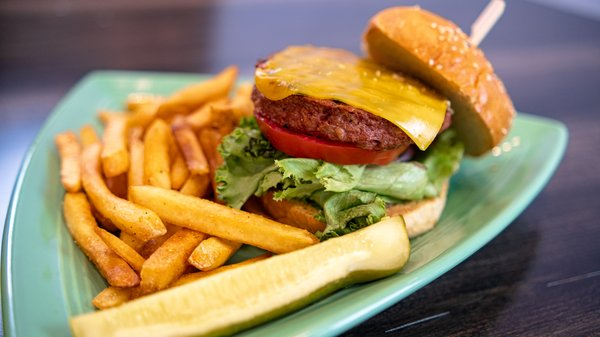soup: (209, 41, 477, 242), (362, 6, 516, 158)
